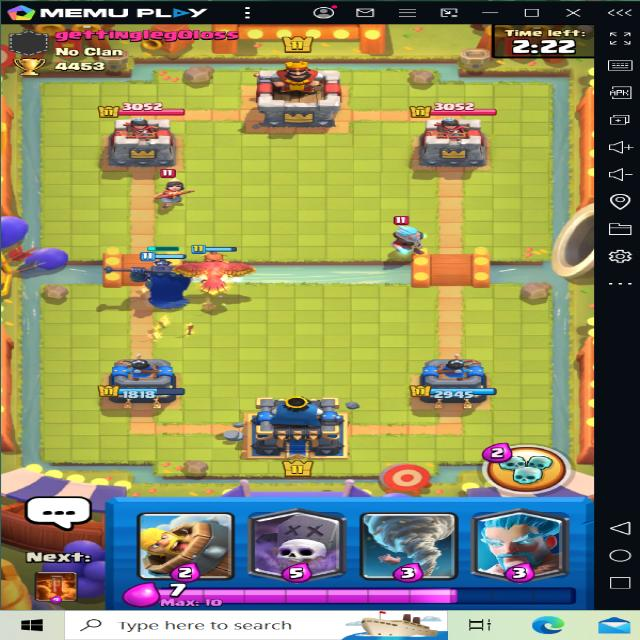ice-wizard: (370, 214, 448, 260)
princess: (150, 169, 199, 213)
